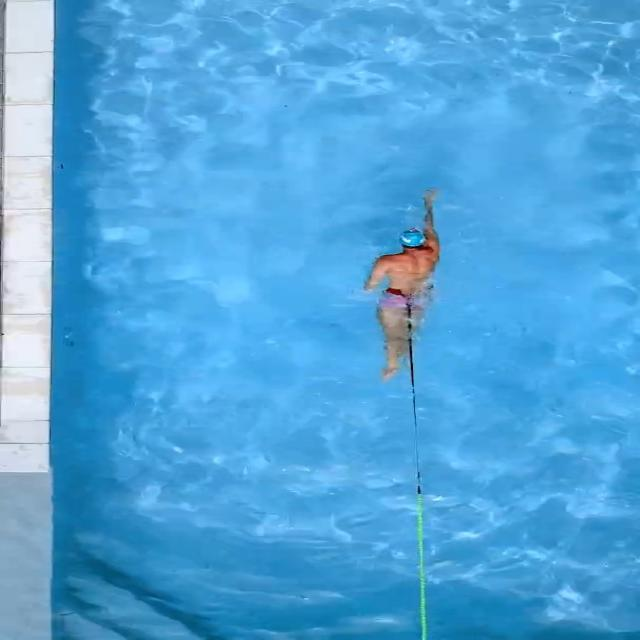Swimming: (366, 188, 444, 377)
